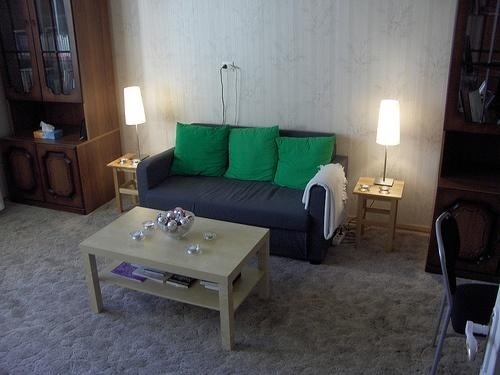chair: (432, 212, 500, 375)
sofa: (136, 121, 350, 264)
